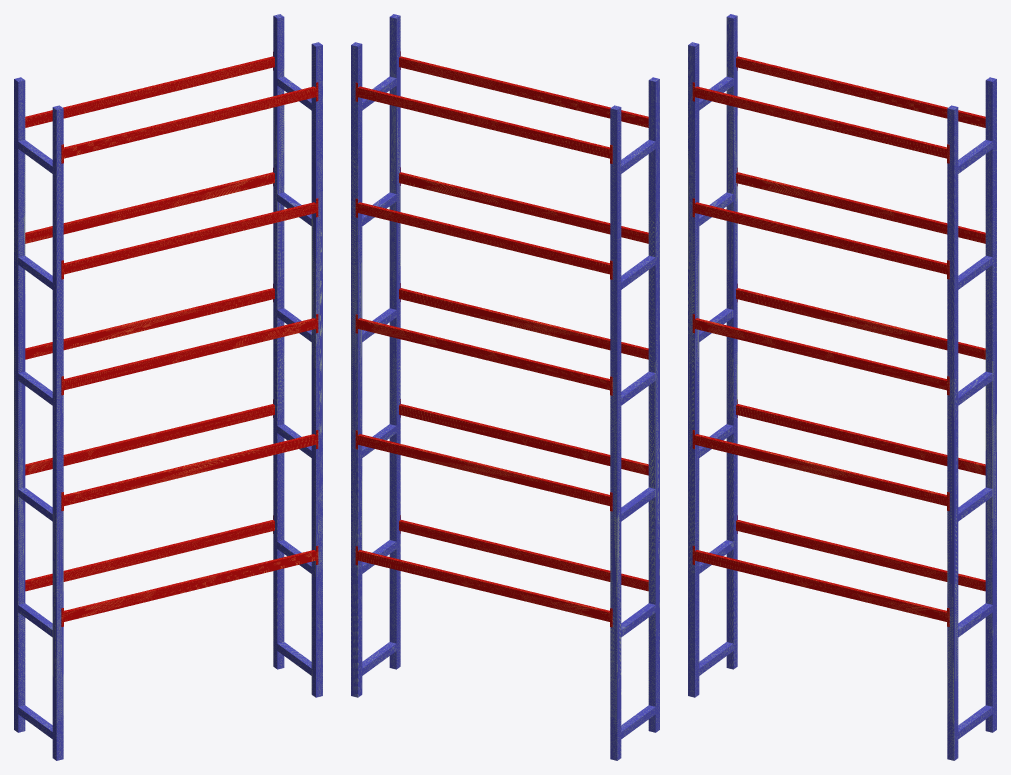
Rendered from pallet_rack_type_3600.fbx.
3 renders of one model, left to right at view 1: azimuth 30°, elevation 25°; view 2: azimuth 150°, elevation 25°; view 3: azimuth 330°, elevation 25°, orthographic.
Visible parts, largest first — view 1: Pied1, Pied3, Pied2, Pied4, lisse_3_5, lisse_3_1, lisse_3_8, lisse_3_10, lisse_3_6, lisse_3_9, lisse_3_2, lisse_3_7 (+2 smaller); view 2: Pied2, Pied4, Pied1, Pied3, lisse_3_7, lisse_3_4, lisse_3_2, lisse_3_3, lisse_3_9, lisse_3_5, lisse_3_8, lisse_3_10 (+2 smaller); view 3: Pied3, Pied1, Pied4, Pied2, lisse_3_5, lisse_3_1, lisse_3_8, lisse_3_10, lisse_3_6, lisse_3_9, lisse_3_2, lisse_3_7 (+2 smaller).
Part boxes in pixels (x1=…): Pied1: x1=52, y1=105, x2=63, y2=760; Pied3: x1=311, y1=42, x2=322, y2=697; Pied2: x1=14, y1=77, x2=25, y2=732; Pied4: x1=273, y1=14, x2=284, y2=669; lisse_3_5: x1=64, y1=86, x2=316, y2=158; lisse_3_1: x1=64, y1=434, x2=316, y2=505; lisse_3_8: x1=64, y1=550, x2=316, y2=621; lisse_3_10: x1=64, y1=202, x2=316, y2=274; lisse_3_6: x1=64, y1=318, x2=316, y2=390; lisse_3_9: x1=25, y1=172, x2=274, y2=243; lisse_3_2: x1=25, y1=520, x2=274, y2=591; lisse_3_7: x1=25, y1=56, x2=274, y2=127; Pied2: x1=610, y1=105, x2=621, y2=760; Pied4: x1=351, y1=42, x2=362, y2=697; Pied1: x1=648, y1=77, x2=659, y2=732; Pied3: x1=389, y1=14, x2=400, y2=669; lisse_3_7: x1=358, y1=86, x2=609, y2=158; lisse_3_4: x1=358, y1=318, x2=609, y2=390; lisse_3_2: x1=358, y1=550, x2=609, y2=621; lisse_3_3: x1=358, y1=434, x2=609, y2=505; lisse_3_9: x1=358, y1=202, x2=609, y2=274; lisse_3_5: x1=399, y1=56, x2=648, y2=127; lisse_3_8: x1=399, y1=520, x2=648, y2=591; lisse_3_10: x1=399, y1=172, x2=648, y2=243; Pied3: x1=947, y1=105, x2=958, y2=760; Pied1: x1=688, y1=42, x2=699, y2=697; Pied4: x1=985, y1=77, x2=996, y2=732; Pied2: x1=726, y1=14, x2=737, y2=669; lisse_3_5: x1=694, y1=86, x2=946, y2=158; lisse_3_1: x1=694, y1=434, x2=946, y2=505; lisse_3_8: x1=694, y1=550, x2=946, y2=621; lisse_3_10: x1=694, y1=202, x2=946, y2=274; lisse_3_6: x1=694, y1=318, x2=946, y2=390; lisse_3_9: x1=736, y1=172, x2=985, y2=243; lisse_3_2: x1=736, y1=520, x2=985, y2=591; lisse_3_7: x1=736, y1=56, x2=985, y2=127.
Bounding box in the file's own units: 380 × 888 × 106.
